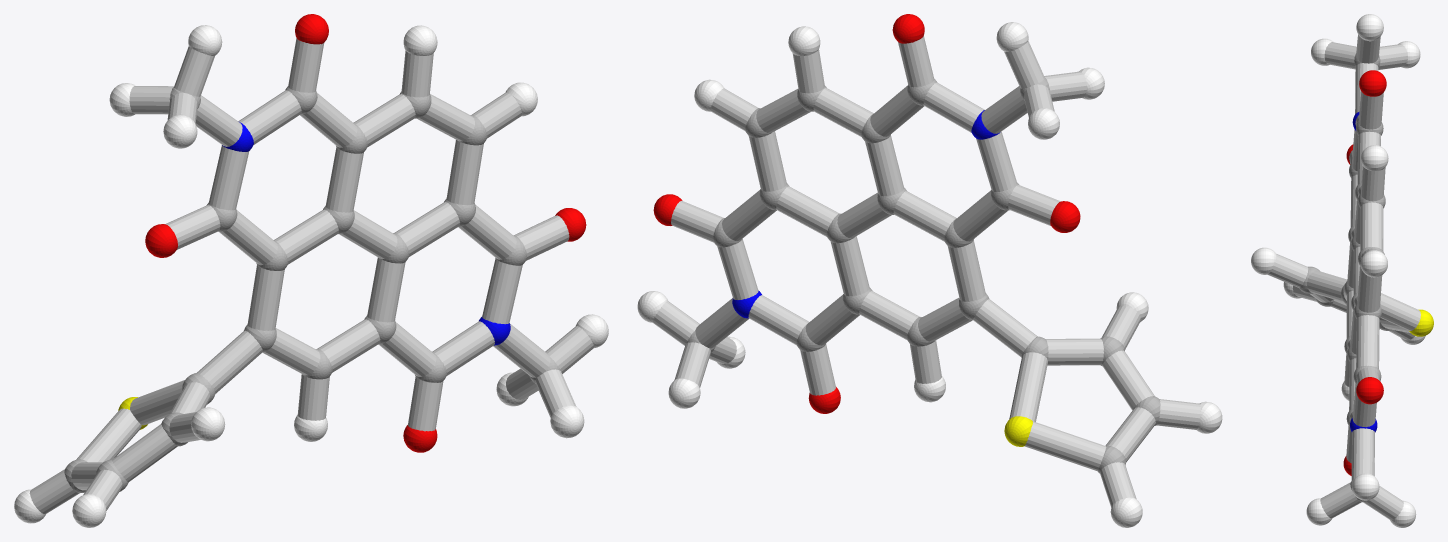
Rendered from Dimethyl_Naphthalene_Dicarboximide_Phi_0_Theta_290_Thiophene.glb.
The picture shows the model from 3 angles, left to right: view 1: azimuth 30°, elevation 25°; view 2: azimuth 150°, elevation 25°; view 3: azimuth 270°, elevation 25°; orthographic projection. The views are drawn at different scales.
Visible parts, largest first — view 1: grp14119, grp7241, grp1, grp12309, grp11585; view 2: grp14119, grp7241, grp1, grp12309, grp11585, grp13757; view 3: grp14119, grp7241, grp1, grp12309, grp13757.
Boxes of the visible parts, <box> form: grp14119: <box>29,38,594,514</box>; grp7241: <box>14,25,608,527</box>; grp1: <box>64,86,560,493</box>; grp12309: <box>145,14,586,452</box>; grp11585: <box>222,122,510,345</box>; grp14119: <box>652,35,1200,506</box>; grp7241: <box>637,22,1222,527</box>; grp1: <box>686,77,1160,473</box>; grp12309: <box>653,14,1080,413</box>; grp11585: <box>732,110,1000,318</box>; grp13757: <box>1004,416,1032,446</box>; grp14119: <box>1267,34,1420,520</box>; grp7241: <box>1251,14,1425,527</box>; grp1: <box>1299,53,1391,502</box>; grp12309: <box>1343,70,1386,475</box>; grp13757: <box>1409,309,1433,336</box>.
Size of the model in its own units: 11.65 by 9.28 by 3.98.
